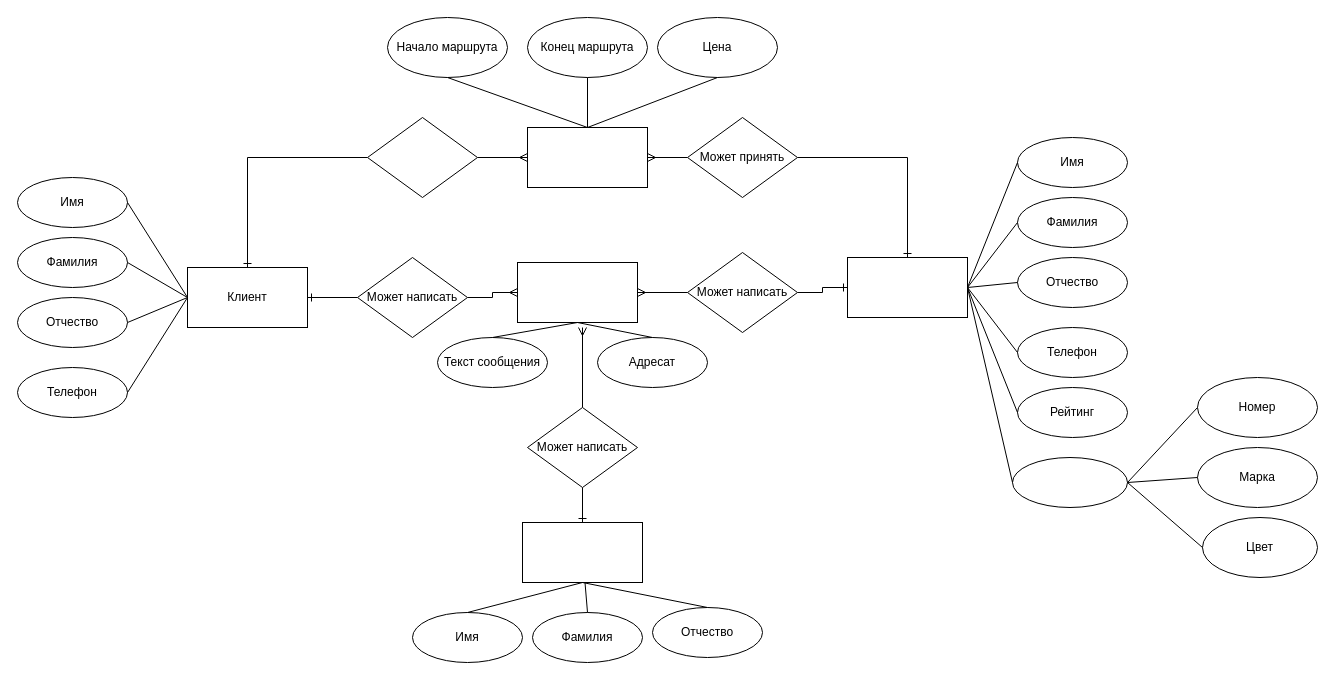
This 1335x680 diagram has some shape labels left out. The centre of each missing label's shape, as x and y in pixels:
Автомабиль: pixel 1070 482
Администратор: pixel 582 552
Водитель: pixel 907 287
Может создать: pixel 422 157
Поездка: pixel 587 157
Сообщение: pixel 577 292
